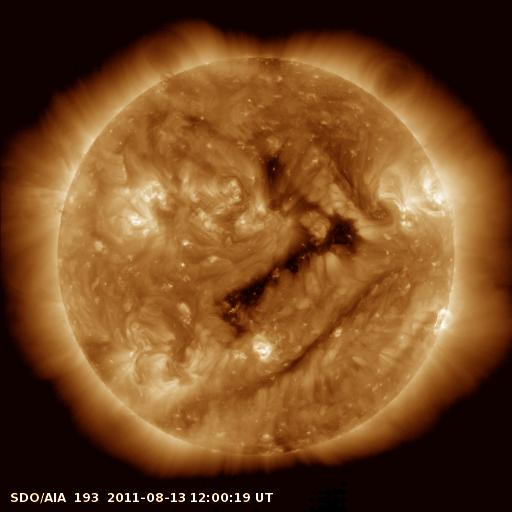coronal_hole: (227, 234, 322, 324), (256, 149, 292, 191), (321, 216, 355, 252)
